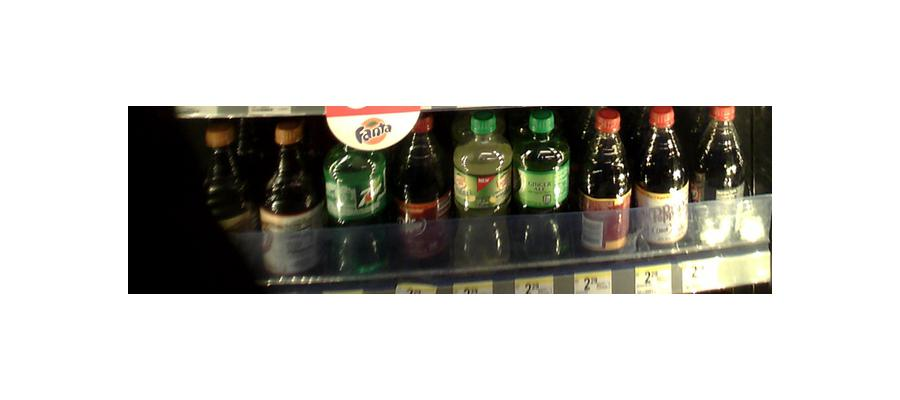bottle: (321, 119, 392, 270), (455, 108, 512, 269), (264, 112, 319, 277), (397, 110, 451, 268), (515, 106, 571, 256), (578, 107, 633, 255), (637, 105, 690, 252), (696, 105, 748, 249), (202, 118, 253, 248)
